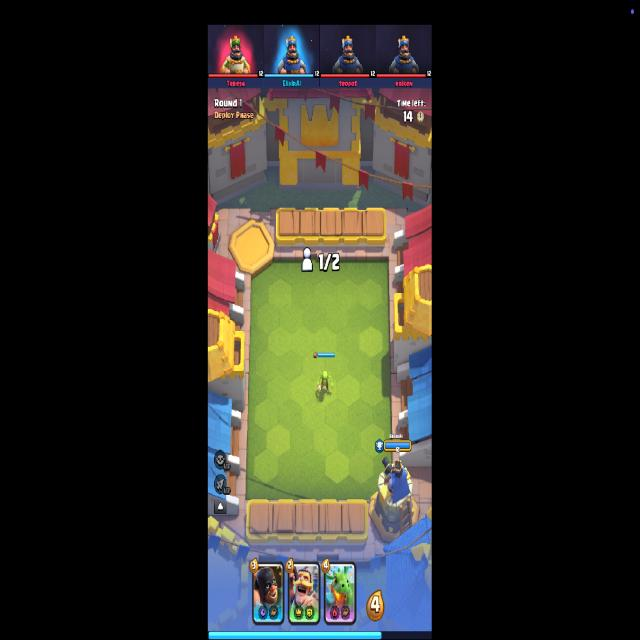card_baby_drag: (323, 560, 358, 626)
card_executioner: (252, 560, 284, 626)
card_knight: (288, 559, 320, 626)
goblin: (317, 371, 334, 396)
